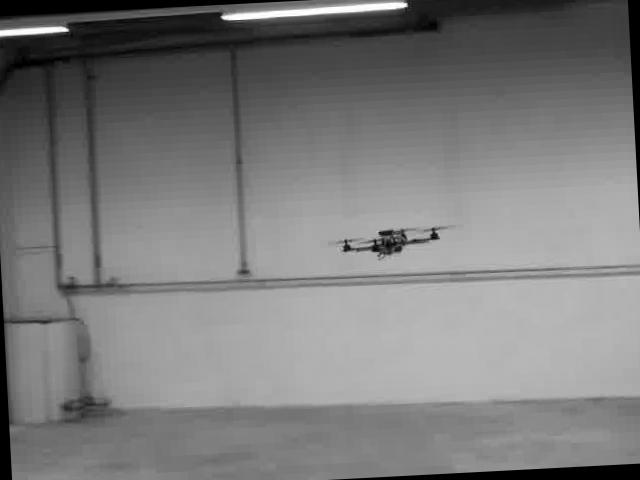drone: (332, 221, 446, 260)
